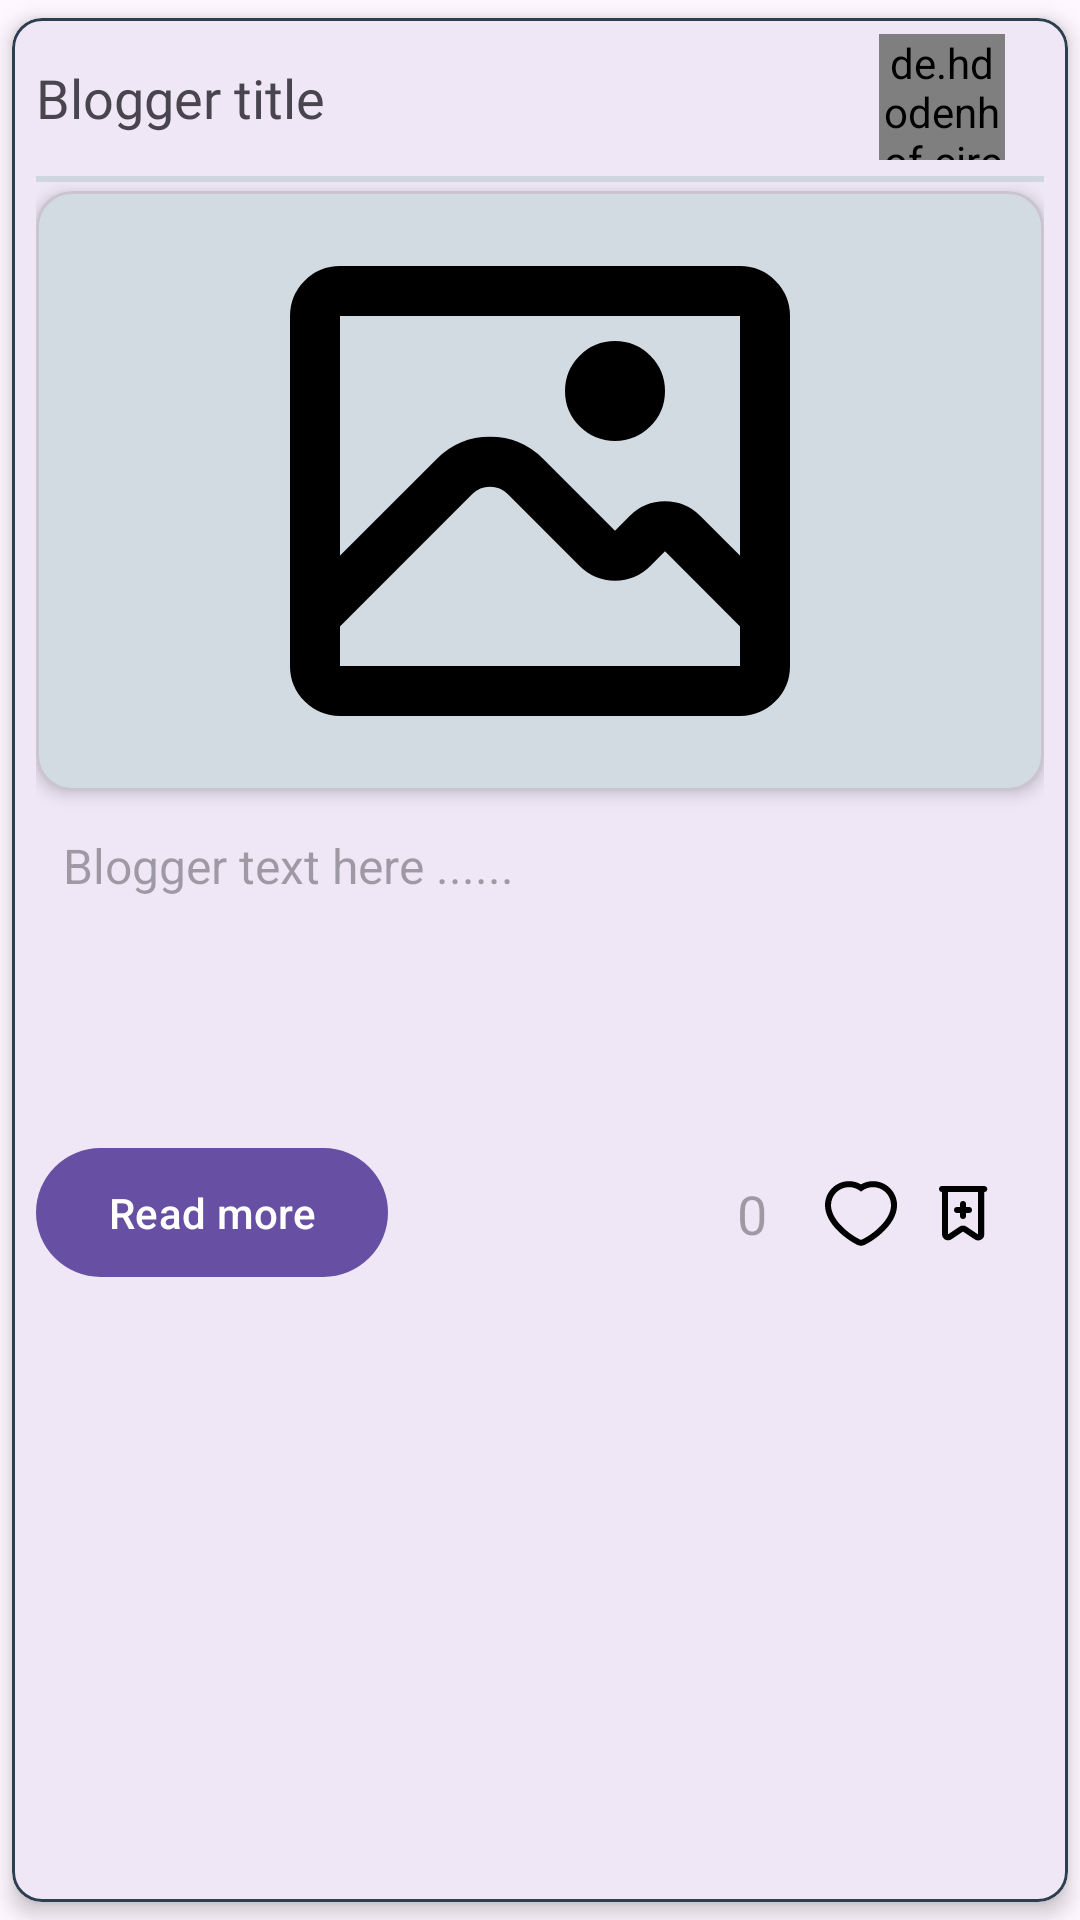

Screen size 1080 x 1920. Icon name, then its box in pixels as (x1, y1, x2, y2):
like: (825, 1181, 897, 1246)
save: (939, 1186, 988, 1241)
